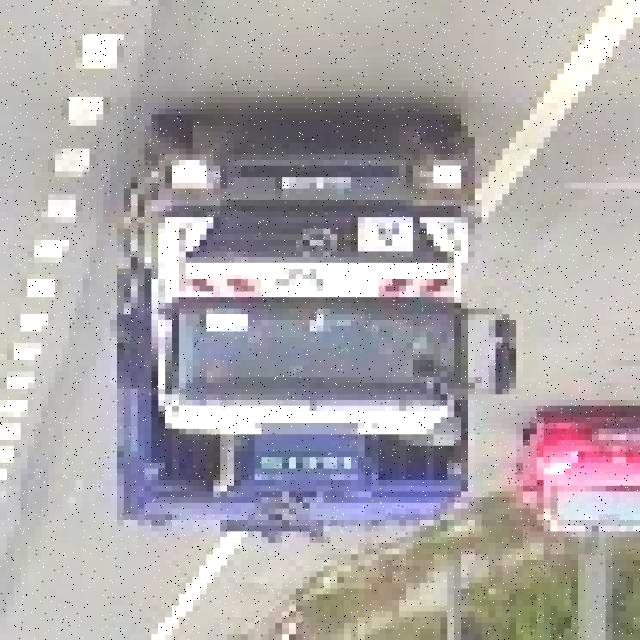truck: (97, 114, 510, 549)
